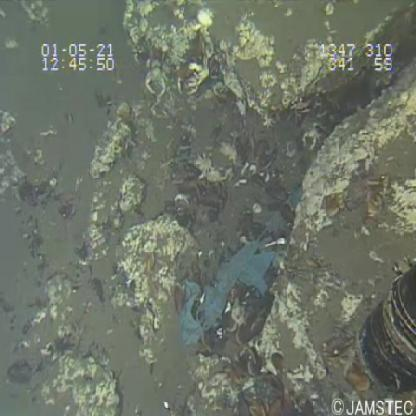Rov: (356, 255, 414, 401)
Rác: (172, 200, 288, 352)
